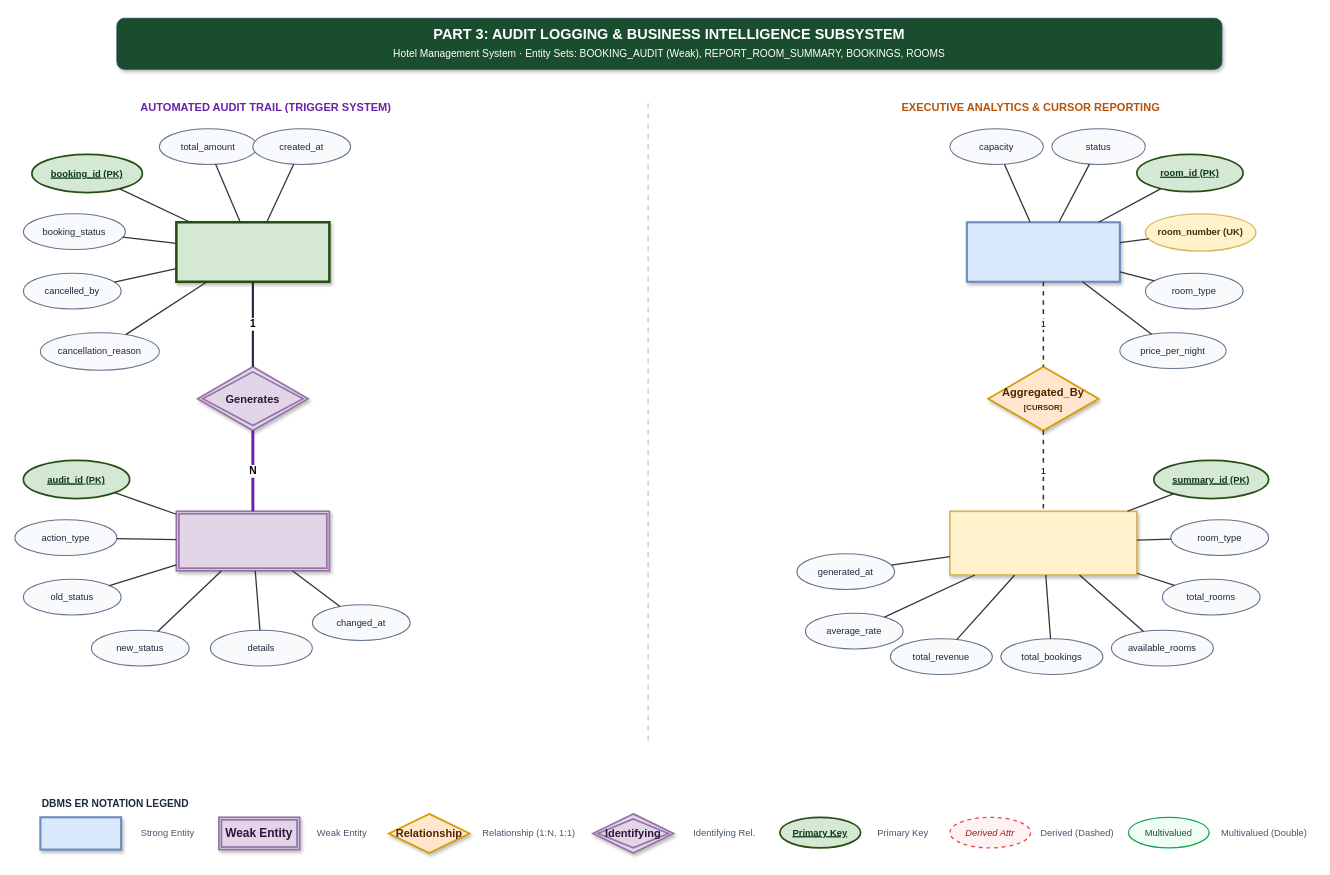
Image size: 1330x875. Some labels were removed from this diagram. Each missing label, with the centre of its shape:
"BOOKING_AUDIT" belongs at [253,542].
"BOOKINGS" belongs at [253,253].
"Entity Set" belongs at [81,834].
"REPORT_ROOM_SUMMARY [Cursor Derived]" belongs at [1043,544].
"ROOMS" belongs at [1044,252].
